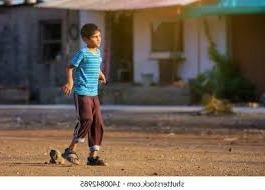Human: (54, 17, 122, 168)
